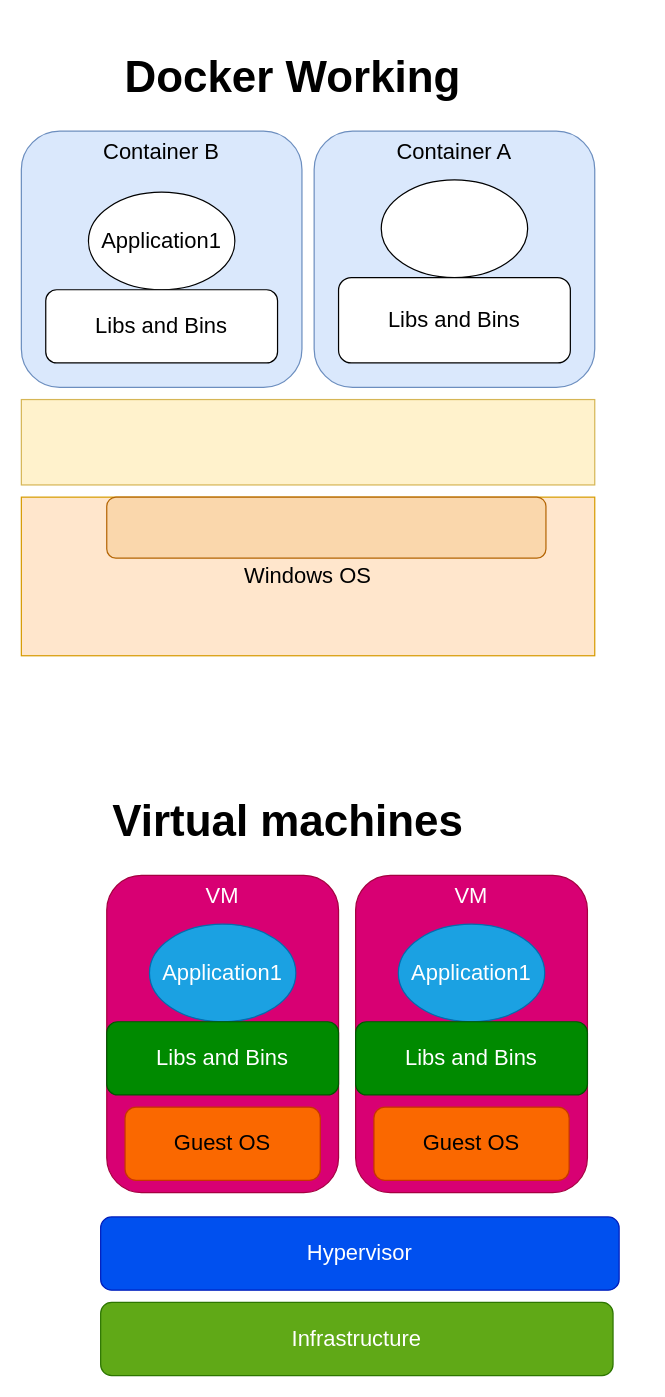
This 665x1397 diagram has some shape labels left out. The shapes that lost their labels are listed below. From the top down, each one's centre as x and y in pixels, then its label:
At (454,228): "Application2".
At (307,441): "Docker Engine".
At (326,527): "Linux Kernel".
